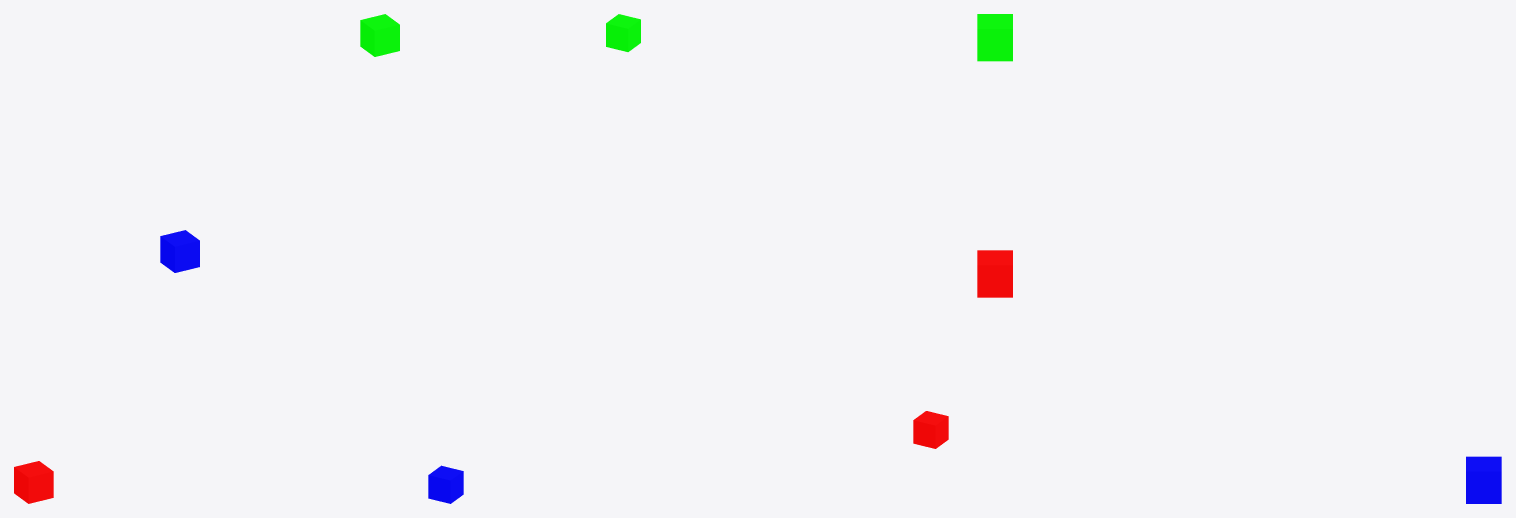
Rendered from scale.fbx.
3 renders of one model, left to right at view 1: azimuth 30°, elevation 25°; view 2: azimuth 150°, elevation 25°; view 3: azimuth 270°, elevation 25°, orthographic. The views are drawn at different scales.
Visible parts, largest first — view 1: Cube_X, Cube_Y, Cube_Z; view 2: Cube_X, Cube_Z, Cube_Y; view 3: Cube_X, Cube_Y, Cube_Z.
Boxes of the visible parts, x1,y1,x2,y2 form: Cube_X: [14, 461, 53, 503]; Cube_Y: [360, 14, 399, 56]; Cube_Z: [160, 230, 199, 272]; Cube_X: [913, 411, 948, 448]; Cube_Z: [428, 465, 463, 503]; Cube_Y: [606, 14, 640, 51]; Cube_X: [977, 250, 1012, 297]; Cube_Y: [977, 14, 1012, 61]; Cube_Z: [1466, 456, 1501, 503].
Size of the model in its own units: 118 by 118 by 118.
